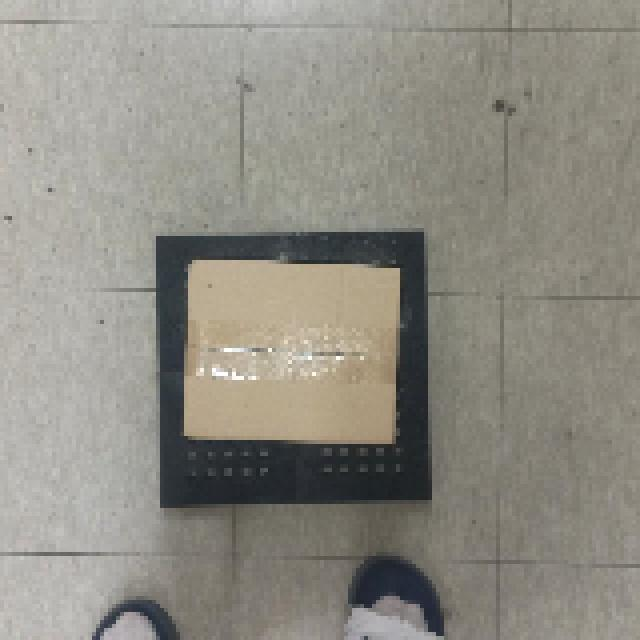box: (178, 258, 406, 454)
pallet: (151, 230, 432, 514)
